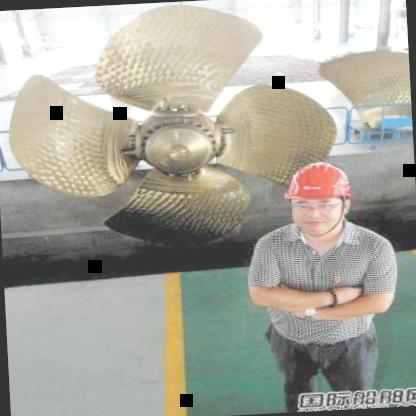helmet: (274, 151, 362, 238)
